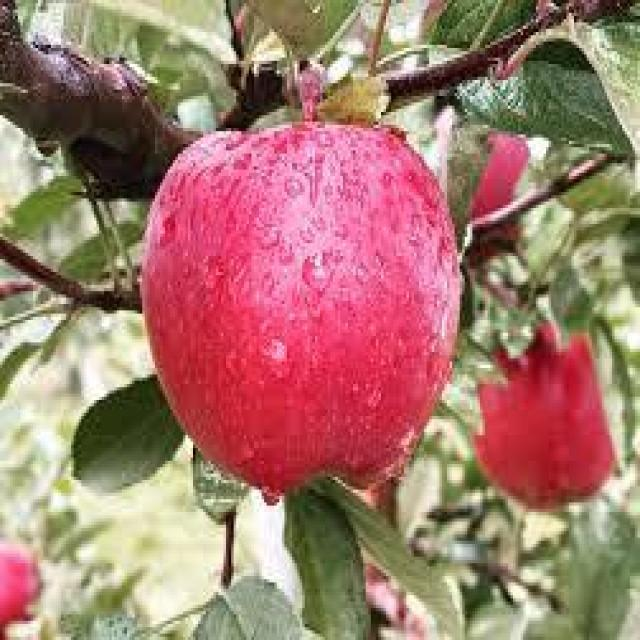apple: (141, 120, 460, 490), (473, 324, 616, 506)
